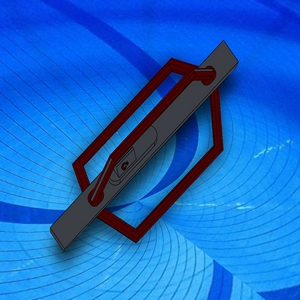submarine: (46, 39, 240, 253)
